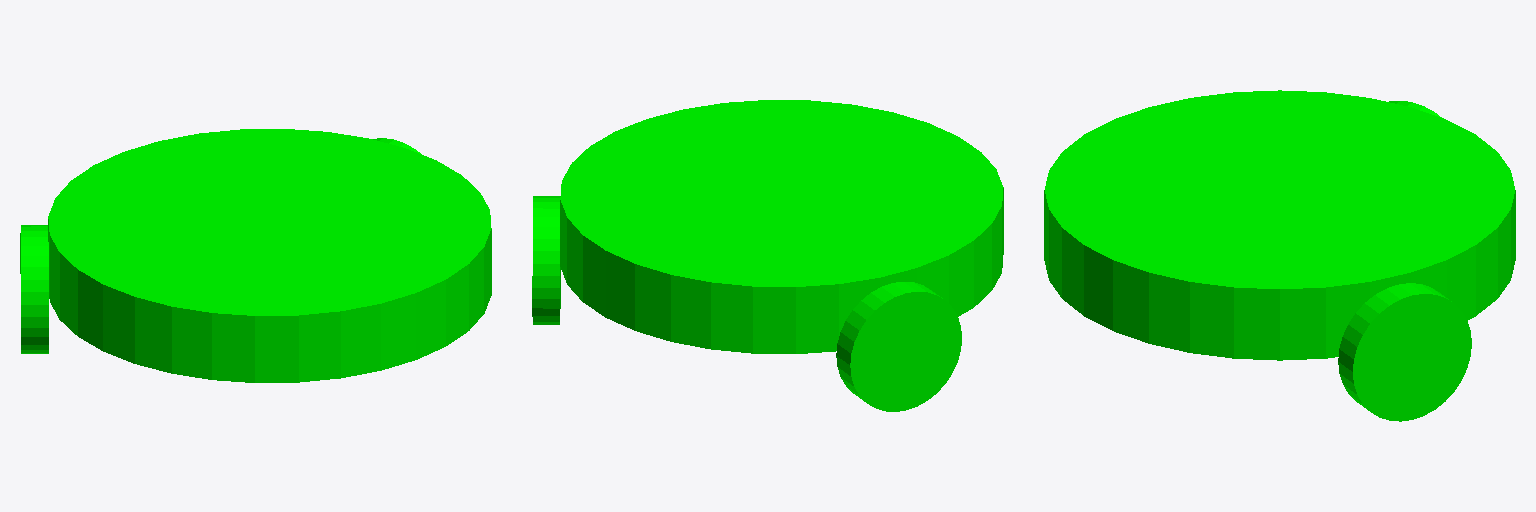
URDF robot description (humblebot):
<?xml version="1.0"?>

<robot name="humblebot">

    <material name="green">
        <color rgba="0 1 0 1" />
    </material>

    <link name="base_link">
        <visual>
            <geometry>
                <cylinder radius="0.24" length="0.08" />
            </geometry>
            <origin xyz="0 0 0.04" rpy="0 0 0" />
            <material name="green" />
        </visual>
    </link>

    <link name="wheel_60deg">
        <visual>
            <geometry>
                <cylinder radius="0.07" length="0.03" />
            </geometry>
            <origin xyz="0 0 0.015" rpy="0 0 0" />
            <material name="green" />
        </visual>
    </link>

    <link name="wheel_240deg">
        <visual>
            <geometry>
                <cylinder radius="0.07" length="0.03" />
            </geometry>
            <origin xyz="0 0 -0.015" rpy="0 0 0" />
            <material name="green" />
        </visual>
    </link>

    <joint name="base_wheel60_joint" type="continuous">
        <parent link="base_link" />
        <child link="wheel_60deg" />
        <axis xyz="0 0 1" />
        <origin xyz="0.207 0.120 0" rpy="0 1.57 0.52" />
    </joint>

    <joint name="base_wheel240_joint" type="continuous">
        <parent link="base_link" />
        <child link="wheel_240deg" />
        <axis xyz="0 0 1" />
        <origin xyz="-0.207 0.120 0" rpy="0 1.57 -0.52" />
    </joint>

</robot>

--- Facts derived from the render (not from the file) ---
3 views of the same robot in one strip: view 1: azimuth 30°, elevation 25°; view 2: azimuth 150°, elevation 25°; view 3: azimuth 270°, elevation 25° (orthographic).
Robot: humblebot — 3 links, 2 joints (2 continuous); root link base_link; default pose: every joint at zero.
Visible links, largest first — view 1: base_link, wheel_240deg; view 2: base_link, wheel_240deg, wheel_60deg; view 3: base_link, wheel_60deg.
Boxes of the visible links, x1,y1,x2,y2 form: base_link: (48, 129, 491, 382); wheel_240deg: (20, 225, 48, 353); base_link: (560, 100, 1003, 353); wheel_240deg: (836, 282, 961, 411); wheel_60deg: (532, 196, 560, 324); base_link: (1044, 90, 1515, 360); wheel_60deg: (1338, 283, 1471, 421).
Bounding box of the posed robot: 0.5356 × 0.48 × 0.15 m (x, y, z).
Geometry: primitives only (box / cylinder / sphere), no mesh files.